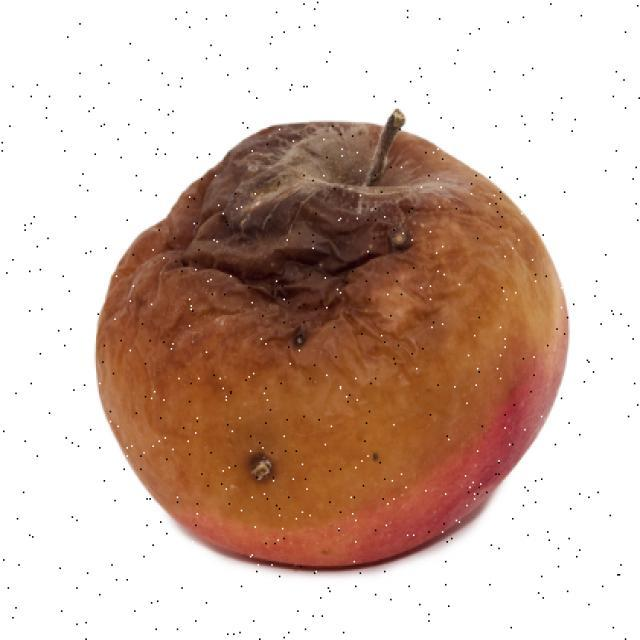Rotten: (79, 116, 558, 572)
